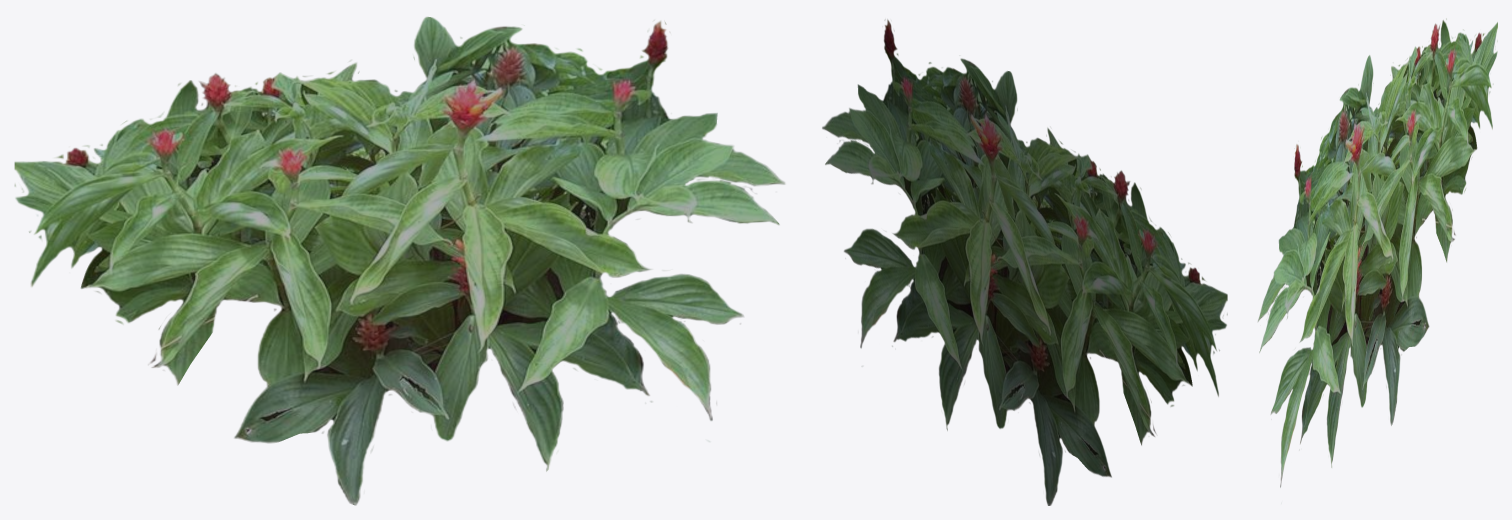
The picture shows the model from 3 angles, left to right: view 1: azimuth 30°, elevation 25°; view 2: azimuth 150°, elevation 25°; view 3: azimuth 270°, elevation 25°; orthographic projection. The views are drawn at different scales.
Parts seen in each view (by area): view 1: C-coctus curvibracteatus; view 2: C-coctus curvibracteatus; view 3: C-coctus curvibracteatus.
Boxes of the visible parts, x1,y1,x2,y2 form: C-coctus curvibracteatus: (14,16,785,505); C-coctus curvibracteatus: (822,19,1227,505); C-coctus curvibracteatus: (1257,19,1497,487).
Bounding box in the file's own units: 1.64 × 1.22 × 0.6739.
Materials: 1 (1 with a texture image).
